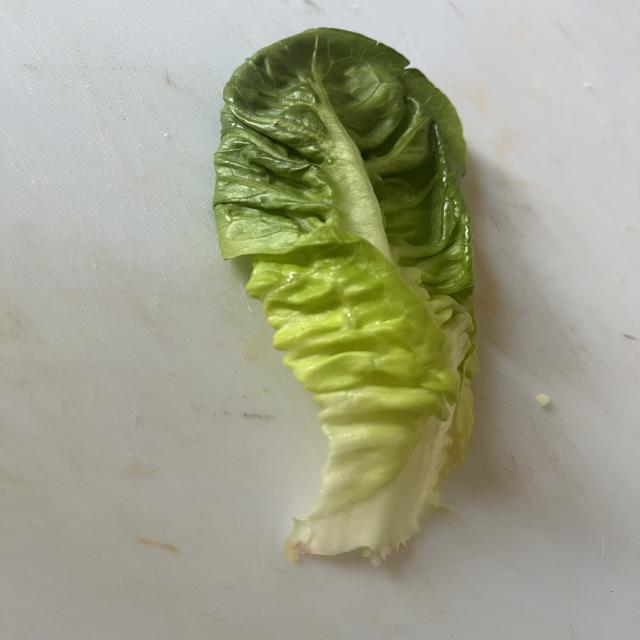lettuce: (213, 28, 477, 561)
